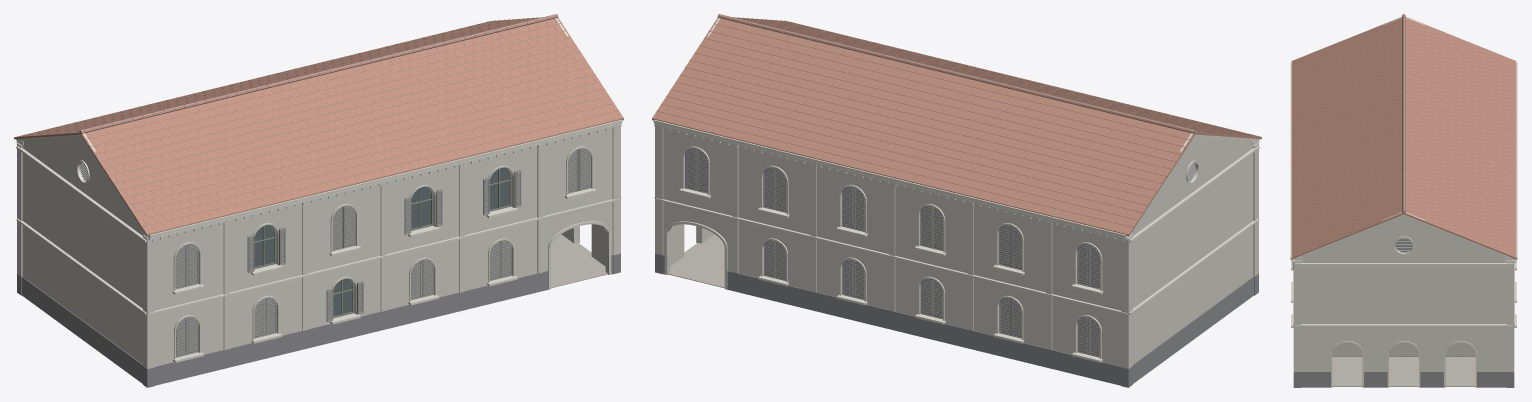
Rendered from xuhui-zikawei-north-library-lod.glb.
3 renders of one model, left to right at view 1: azimuth 30°, elevation 25°; view 2: azimuth 150°, elevation 25°; view 3: azimuth 270°, elevation 25°, orthographic. The views are drawn at different scales.
Visible parts, largest first — view 1: 徐家汇藏书楼北楼（原藏书楼）; view 2: 徐家汇藏书楼北楼（原藏书楼）; view 3: 徐家汇藏书楼北楼（原藏书楼）.
Boxes of the visible parts, x1,y1,x2,y2 form: 徐家汇藏书楼北楼（原藏书楼）: (14, 14, 623, 387); 徐家汇藏书楼北楼（原藏书楼）: (652, 14, 1261, 387); 徐家汇藏书楼北楼（原藏书楼）: (1290, 14, 1517, 387).
Bounding box in the file's own units: 28.46 × 11.99 × 13.91.
